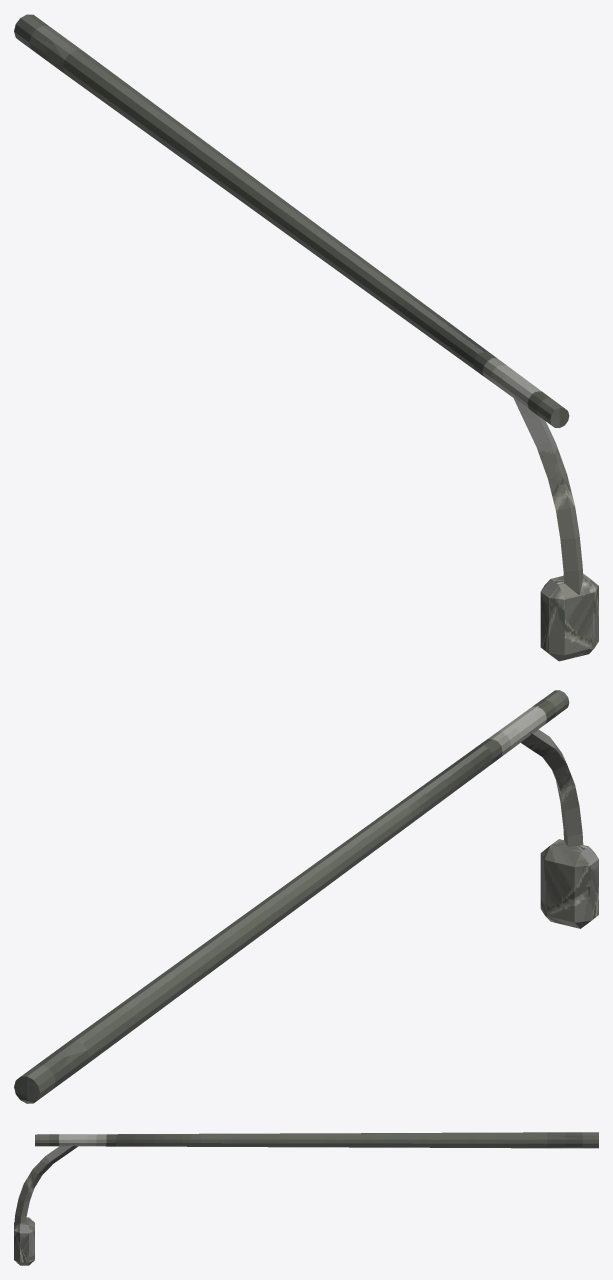
The model's file is pz_street_pole_08.obj.
3 views of the same model, one above another, from view 1: azimuth 30°, elevation 25°; view 2: azimuth 150°, elevation 25°; view 3: azimuth 270°, elevation 25° (orthographic). The views are drawn at different scales.
Visible parts, largest first — view 1: pz_street_pole_08_|_tapered_native_street_pole, pz_street_pole_08_|_rounded_street_lamp_head, pz_street_pole_08_|_EDITABLE_curved_street_lamp_arm; view 2: pz_street_pole_08_|_tapered_native_street_pole, pz_street_pole_08_|_rounded_street_lamp_head, pz_street_pole_08_|_EDITABLE_curved_street_lamp_arm; view 3: pz_street_pole_08_|_tapered_native_street_pole, pz_street_pole_08_|_EDITABLE_curved_street_lamp_arm, pz_street_pole_08_|_rounded_street_lamp_head.
Boxes of the visible parts, x1=… form: pz_street_pole_08_|_tapered_native_street_pole: x1=14, y1=14, x2=569, y2=427; pz_street_pole_08_|_rounded_street_lamp_head: x1=540, y1=573, x2=598, y2=661; pz_street_pole_08_|_EDITABLE_curved_street_lamp_arm: x1=511, y1=393, x2=583, y2=594; pz_street_pole_08_|_tapered_native_street_pole: x1=14, y1=690, x2=569, y2=1103; pz_street_pole_08_|_rounded_street_lamp_head: x1=540, y1=839, x2=598, y2=928; pz_street_pole_08_|_EDITABLE_curved_street_lamp_arm: x1=521, y1=729, x2=583, y2=846; pz_street_pole_08_|_tapered_native_street_pole: x1=35, y1=1132, x2=598, y2=1148; pz_street_pole_08_|_EDITABLE_curved_street_lamp_arm: x1=14, y1=1143, x2=77, y2=1226; pz_street_pole_08_|_rounded_street_lamp_head: x1=14, y1=1217, x2=34, y2=1265.
Bounding box in the file's own units: 0.13 × 0.604 × 2.49.
1 material, 1 textured.
